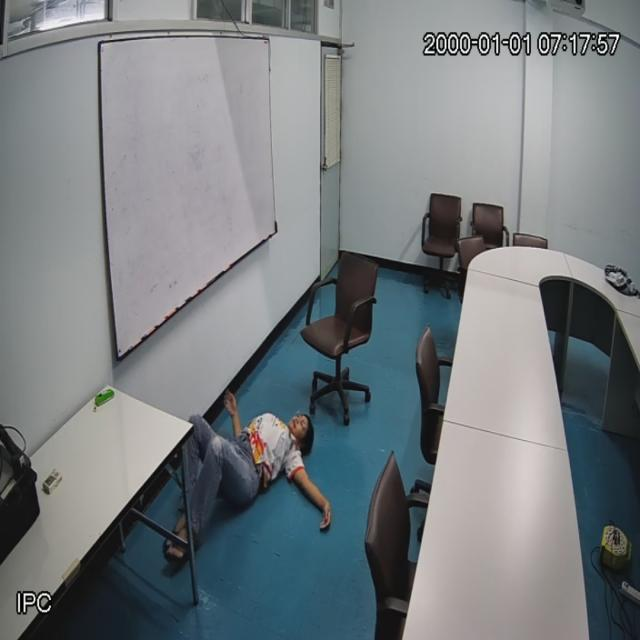fall: (153, 407, 332, 562)
